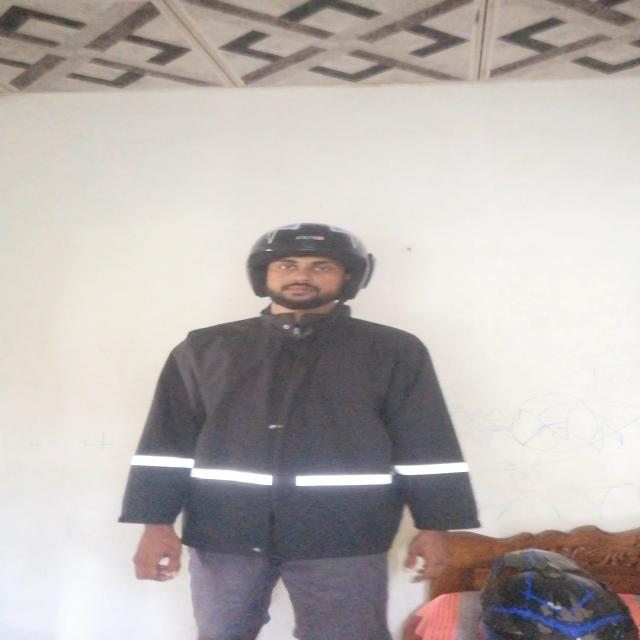Gun_Holder: (230, 217, 370, 329)
Helmet_Wearer: (126, 306, 513, 582)
Person: (148, 215, 468, 640)
